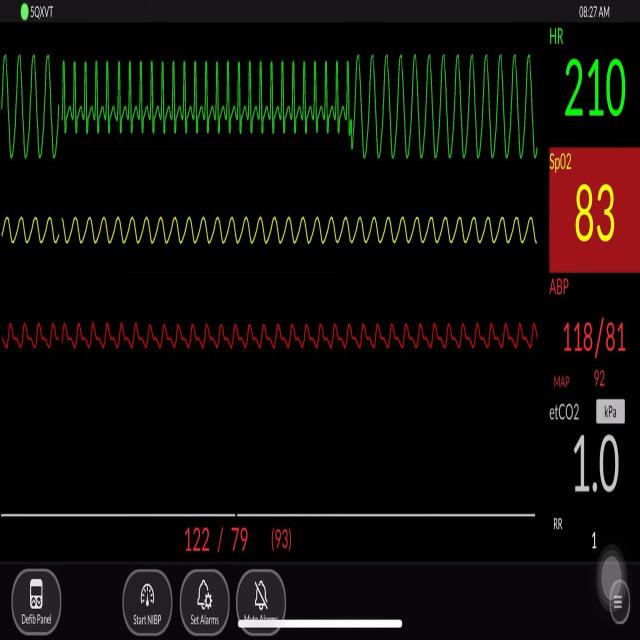danger: (60, 47, 352, 144), (359, 43, 544, 173), (3, 44, 58, 170)
